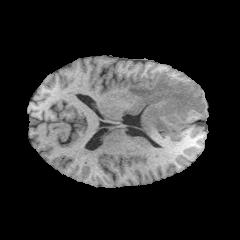glioma: (127, 72, 208, 148)
